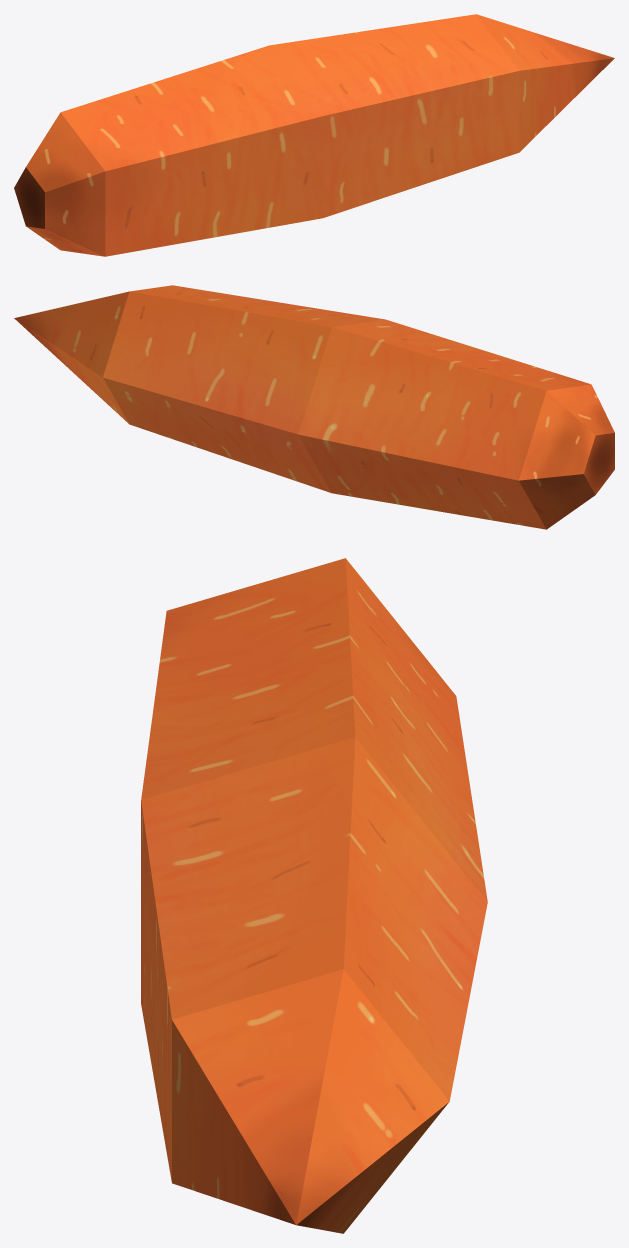
File: carrot.gltf
The picture shows the model from 3 angles, top to bottom: view 1: azimuth 30°, elevation 25°; view 2: azimuth 150°, elevation 25°; view 3: azimuth 270°, elevation 25°; orthographic projection. The views are drawn at different scales.
Visible parts, largest first — view 1: Carrot; view 2: Carrot; view 3: Carrot.
Part boxes in pixels (x1,y1,x2,y2): Carrot: (14, 14, 614, 256); Carrot: (14, 285, 614, 529); Carrot: (141, 558, 487, 1233).
Size of the model in its own units: 0.139 by 0.0376 by 0.0357.
Materials: 1 (1 with a texture image).
